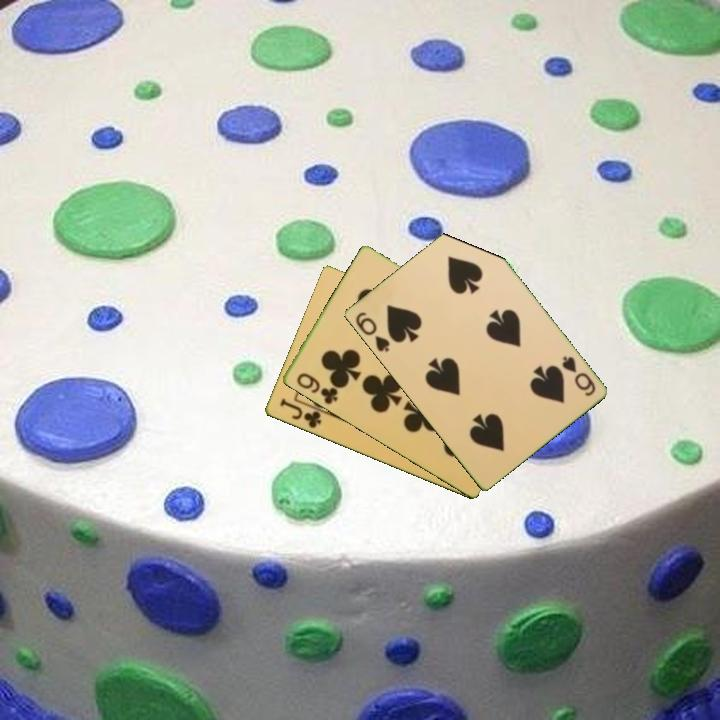6s: (351, 308, 392, 355), (558, 353, 598, 399)
9c: (293, 369, 340, 408)
Jc: (276, 395, 324, 431)
